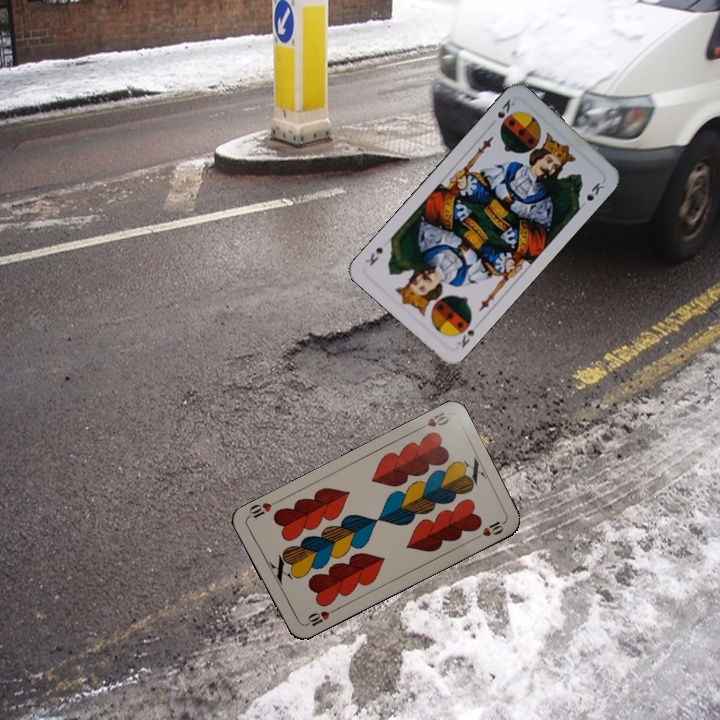H10: (413, 407, 452, 433), (300, 605, 339, 629)
SK: (493, 95, 518, 121), (453, 326, 477, 351)
